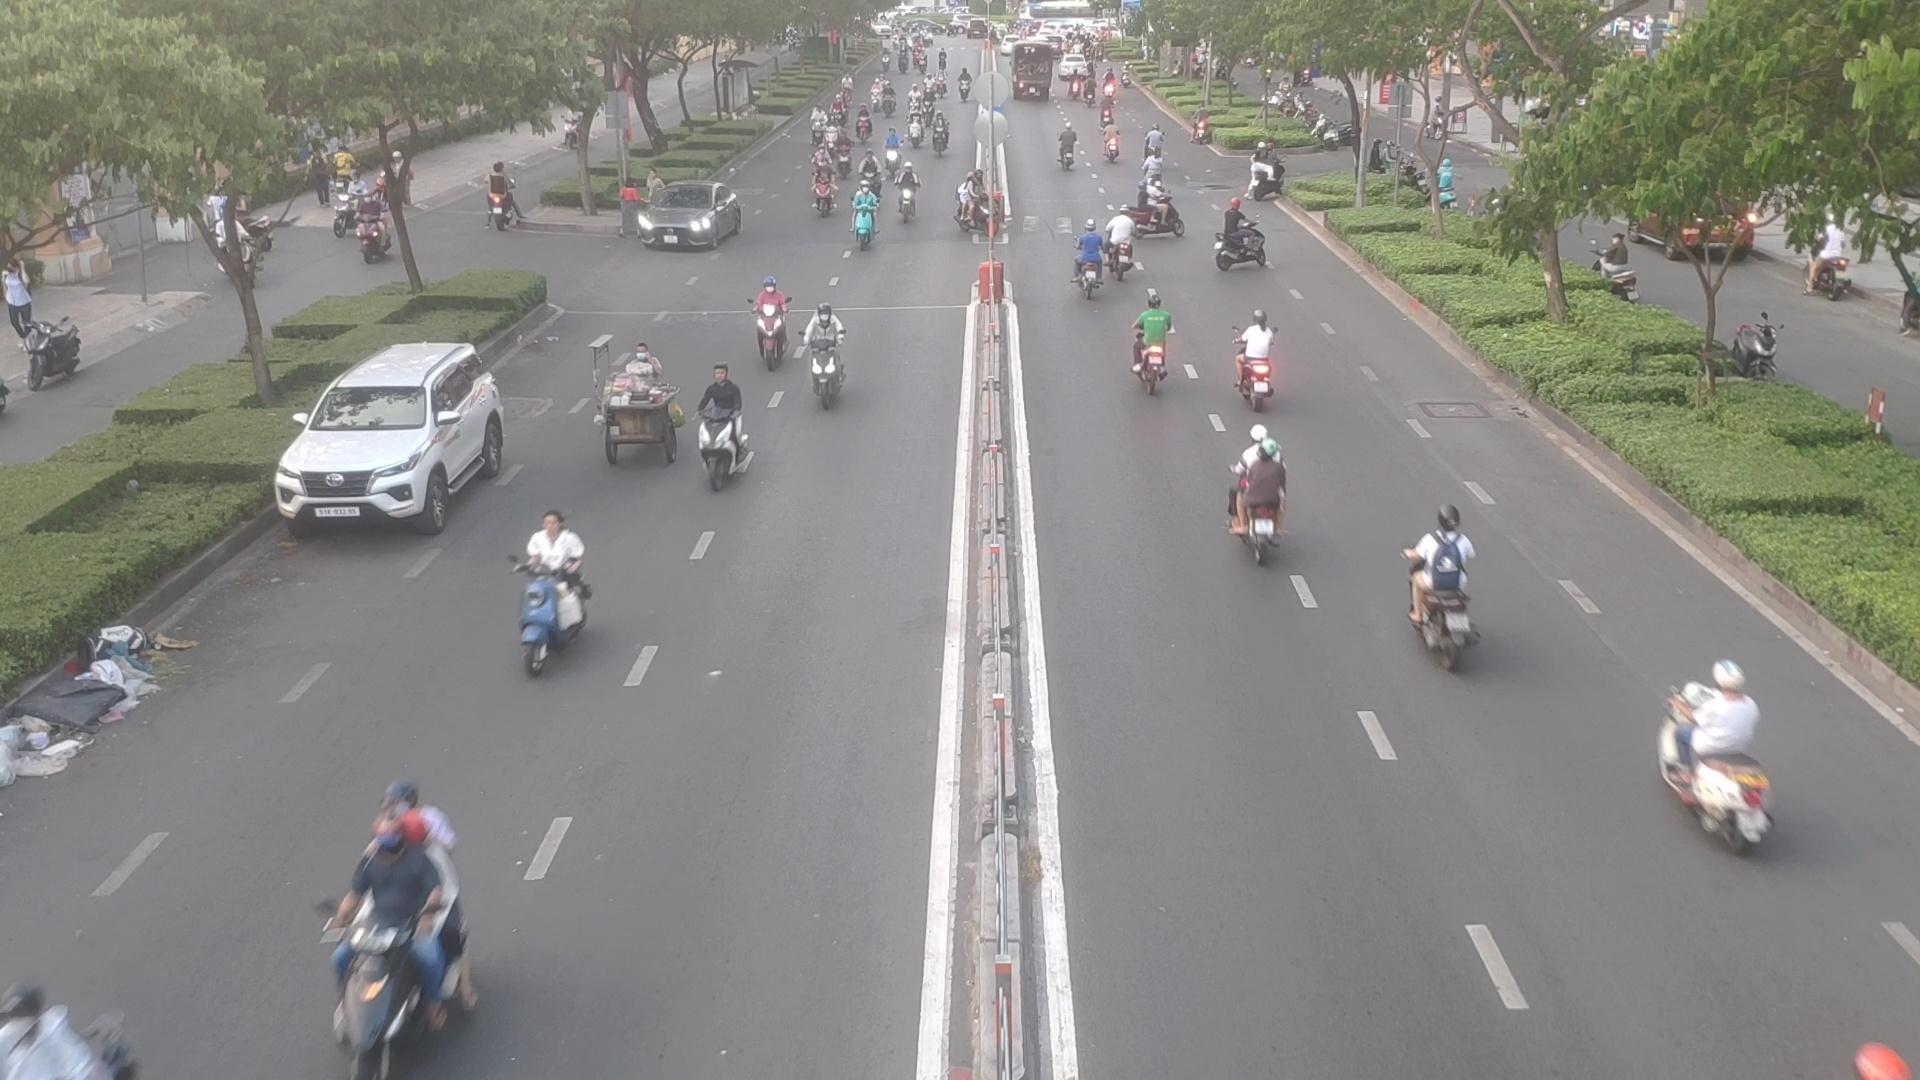car: (280, 339, 520, 527), (618, 187, 752, 255)
motorbike: (316, 802, 476, 1076), (1652, 665, 1783, 849), (513, 531, 603, 670), (1400, 524, 1487, 665), (1222, 429, 1302, 558), (596, 342, 674, 465), (509, 513, 589, 624), (691, 367, 758, 487), (802, 302, 862, 411), (1127, 294, 1189, 385), (1229, 314, 1284, 405), (741, 274, 796, 365), (960, 171, 1021, 243), (1071, 218, 1131, 287), (1215, 214, 1271, 272), (1129, 185, 1185, 240)
